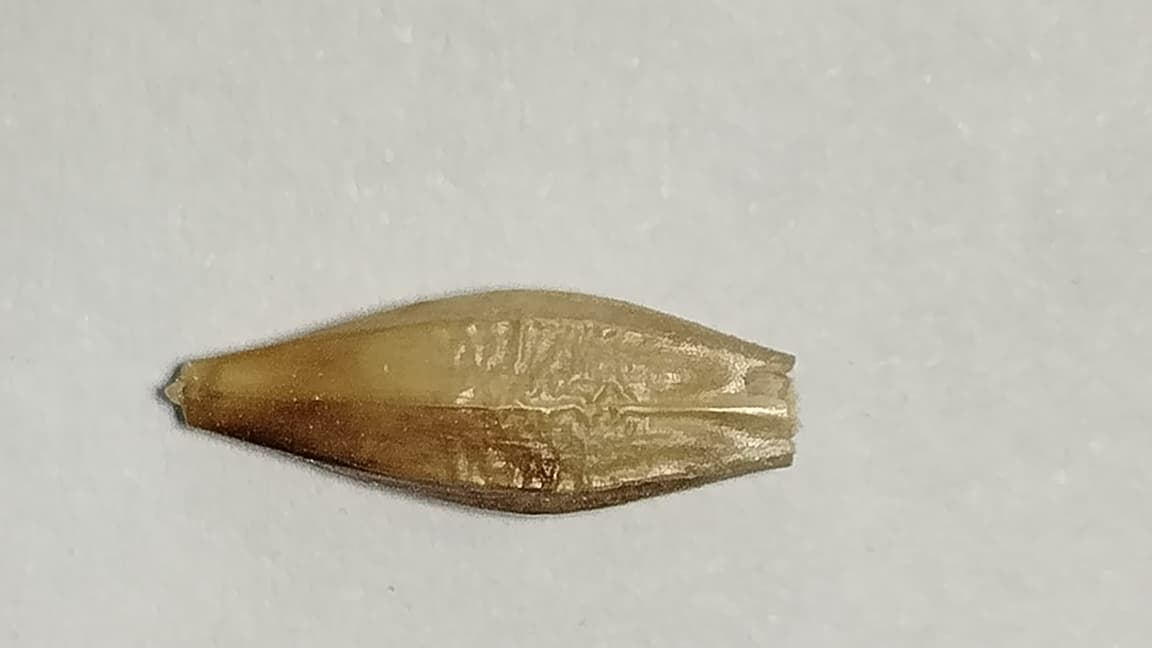healthy-70-60: (167, 290, 795, 513)
staindamage: (204, 393, 373, 469)
